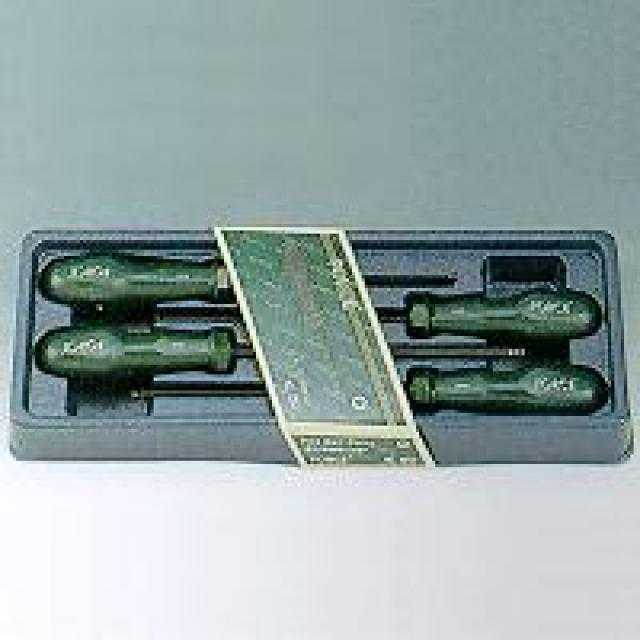screwdriver: (55, 368, 630, 436), (47, 308, 548, 374), (68, 234, 484, 310)
